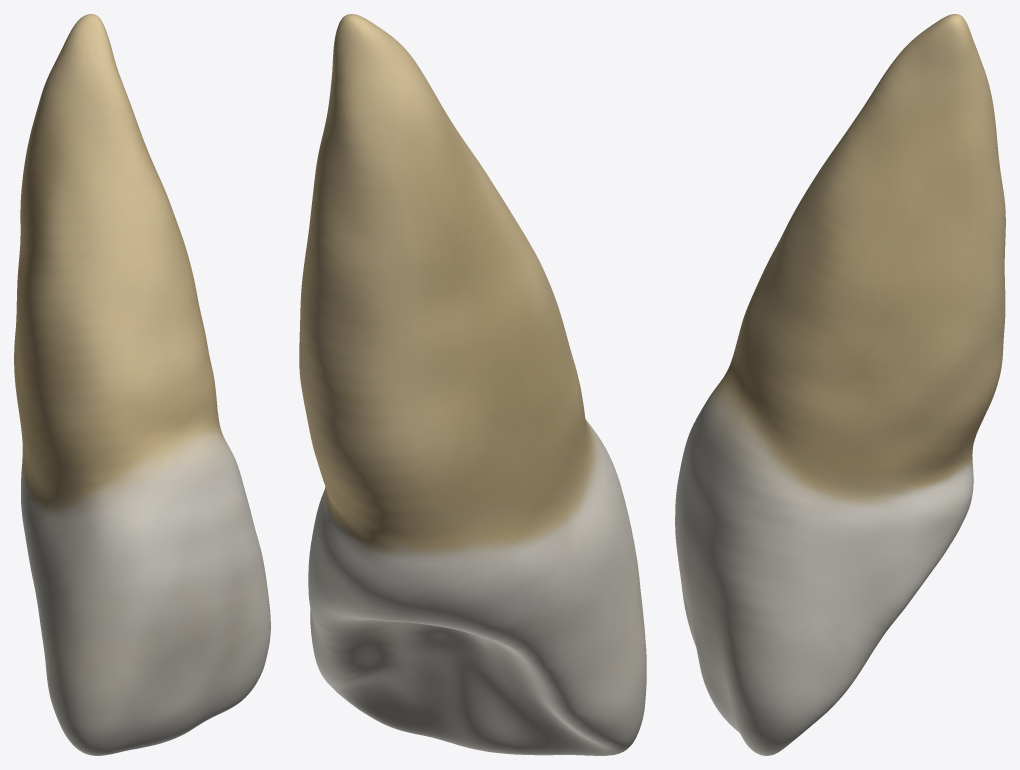
Rendered from maxillary_left_central_incisor.glb.
3 views of the same model, side by side, from view 1: azimuth 30°, elevation 25°; view 2: azimuth 150°, elevation 25°; view 3: azimuth 270°, elevation 25° (orthographic). The views are drawn at different scales.
Visible parts, largest first — view 1: Object_2; view 2: Object_2; view 3: Object_2.
Boxes of the visible parts, x1,y1,x2,y2 form: Object_2: (14, 14, 270, 755); Object_2: (299, 14, 646, 755); Object_2: (675, 14, 1005, 755).
Size of the model in its own units: 0.32 by 0.8746 by 0.3642.
1 material, 1 textured.
